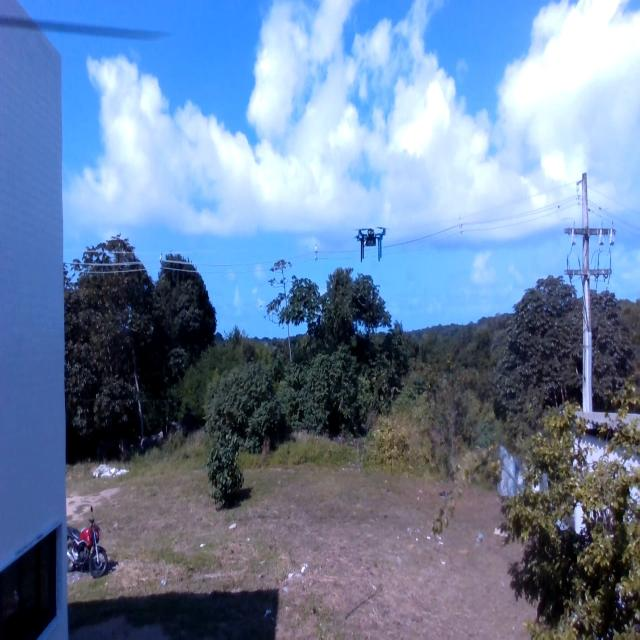-uav-: (349, 216, 393, 264)
